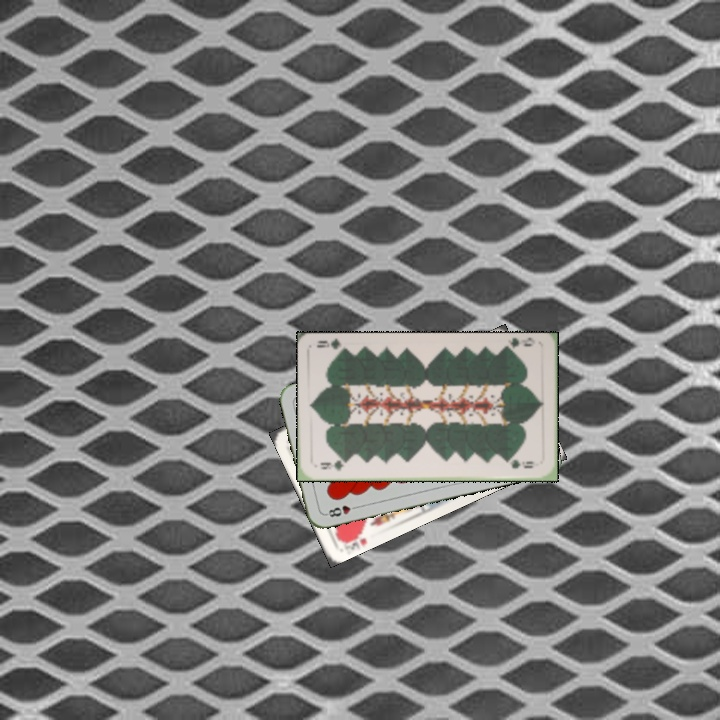G9: (501, 336, 537, 355), (317, 457, 352, 474)
H8: (322, 501, 362, 520)
HK: (335, 525, 369, 548)
